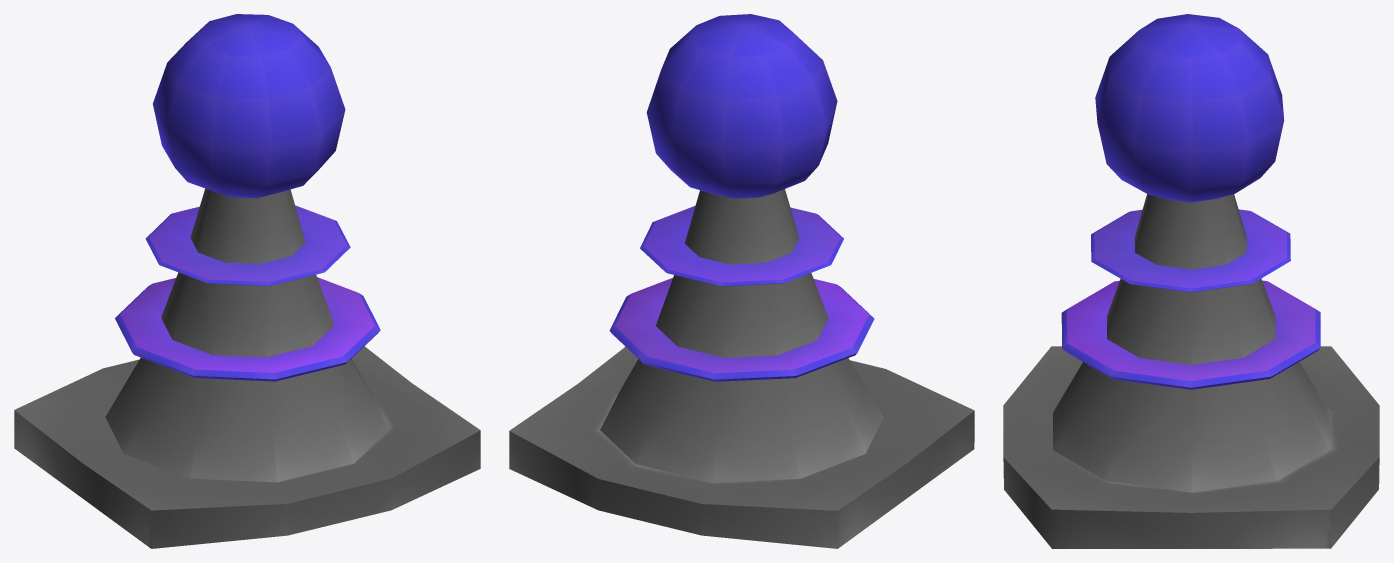
File: Teslacoil.fbx
The picture shows the model from 3 angles, left to right: view 1: azimuth 30°, elevation 25°; view 2: azimuth 150°, elevation 25°; view 3: azimuth 270°, elevation 25°; orthographic projection. The views are drawn at different scales.
Parts seen in each view (by area): view 1: Teslacoil; view 2: Teslacoil; view 3: Teslacoil.
Part boxes in pixels (x1,y1,x2,y2): Teslacoil: (14,14,480,548); Teslacoil: (509,14,974,548); Teslacoil: (1003,14,1379,548).
Size of the model in its own units: 38.6 by 48.66 by 37.57.
Materials: 1 (1 with a texture image).
